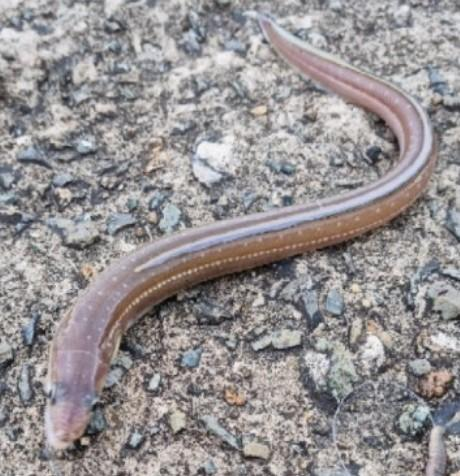fish: (44, 15, 435, 449)
